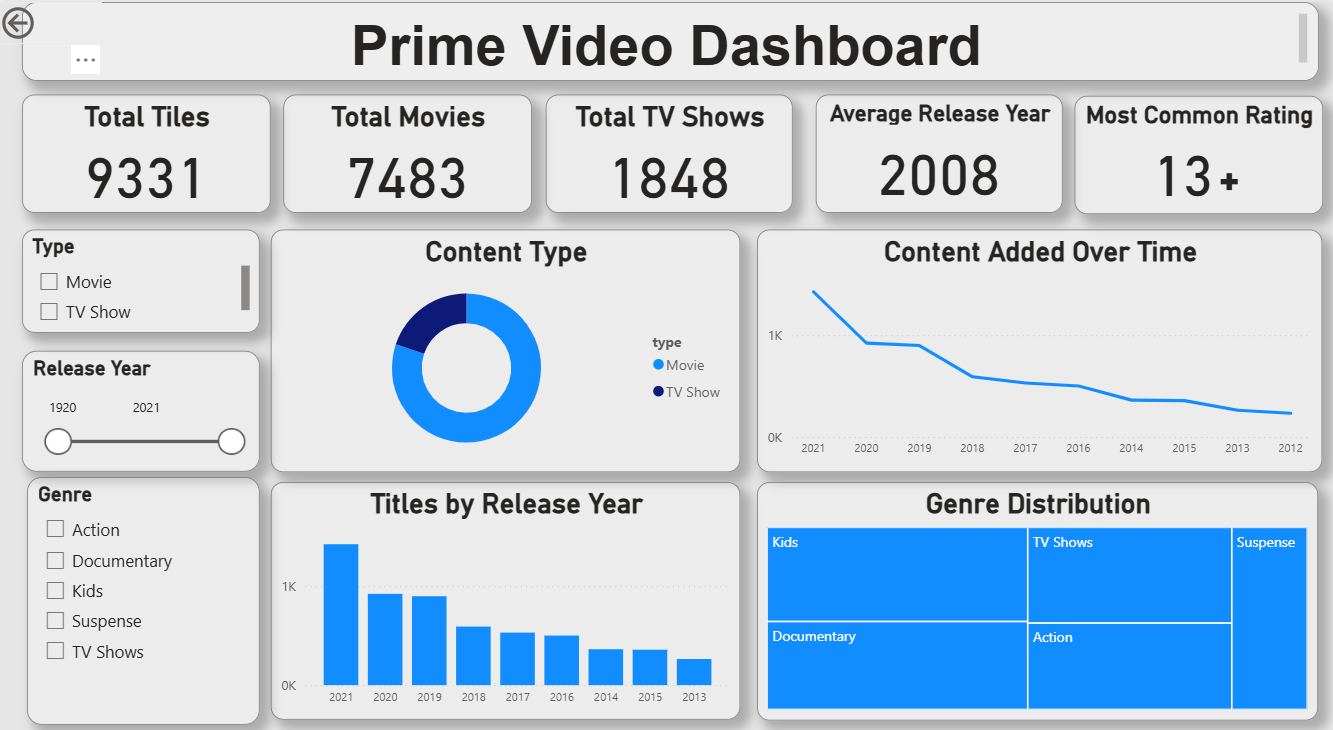

Layout of this report page (visuals, bound fields, positions):
{"tool":"powerbi","page":{"name":"Page 1","canvas":[1280,720],"ordinal":0},"visuals":[{"type":"textbox","box":[23.7,0,1235.3,75.4],"z":0},{"type":"card","title":"Total Tiles","fields":{"Values":["Count(amazon_prime_titles[1].show_id)"]},"box":[24.2,88.4,236.6,112.6],"z":1000},{"type":"card","title":"Total Movies","fields":{"Values":["amazon_prime_titles[1].Total Movies"]},"box":[272.2,88.4,236.6,112.6],"z":2000},{"type":"card","title":"Total TV Shows","fields":{"Values":["amazon_prime_titles[1].Total TV Show"]},"box":[523.1,88.4,235.2,112.6],"z":3000},{"type":"card","title":"Average Release Year","fields":{"Values":["Avg(amazon_prime_titles[1].release_year)"]},"box":[779.7,88.4,235.2,112.6],"z":4000},{"type":"card","title":"Most  Common Rating","fields":{"Values":["amazon_prime_titles[1].Most Common Rating"]},"box":[1026.3,89.8,236.6,112.6],"z":5000},{"type":"actionButton","box":[0,0,100,40],"z":6000},{"type":"donutChart","title":"Content Type","fields":{"Category":["amazon_prime_titles[1].type"],"Y":["CountNonNull(amazon_prime_titles[1].type)"]},"box":[260.8,216.7,447.6,230.9],"z":7000},{"type":"lineChart","title":"Content Added Over Time","fields":{"Category":["amazon_prime_titles[1].release_year"],"Y":["CountNonNull(amazon_prime_titles[1].show_id)"]},"box":[724.1,216.7,538.8,230.9],"z":8000},{"type":"clusteredColumnChart","title":"Titles by Release Year","fields":{"Y":["CountNonNull(amazon_prime_titles[1].show_id)"],"Category":["amazon_prime_titles[1].release_year"]},"box":[260.8,457.6,447.6,226.6],"z":9000},{"type":"treemap","title":"Genre Distribution","fields":{"Values":["CountNonNull(amazon_prime_titles[1].show_id)"],"Group":["amazon_prime_titles[1].listed_in"]},"box":[723.9,457.2,534.5,226.8],"z":10000},{"type":"slicer","title":"Release Year","fields":{"Values":["amazon_prime_titles[1].release_year"]},"box":[23.8,332.5,226.2,115],"z":11000},{"type":"slicer","title":"Type","fields":{"Values":["amazon_prime_titles[1].type"]},"box":[23.8,216.2,226.2,98.8],"z":12000},{"type":"slicer","title":"Genre","fields":{"Values":["amazon_prime_titles[1].listed_in"]},"box":[28.8,452.5,221.2,236.2],"z":12001}]}

Visuals, with their boxes on the page's 1280x720 design canvas (x1, y1, x2, y2). These are canvas units, not pixel positions in the 1333x730 screenshot, which may show the page scaled, cropped or inside an application window:
textbox: {"x1": 24, "y1": 0, "x2": 1259, "y2": 75}
"Total Tiles" card: {"x1": 24, "y1": 88, "x2": 261, "y2": 201}
"Total Movies" card: {"x1": 272, "y1": 88, "x2": 509, "y2": 201}
"Total TV Shows" card: {"x1": 523, "y1": 88, "x2": 758, "y2": 201}
"Average Release Year" card: {"x1": 780, "y1": 88, "x2": 1015, "y2": 201}
"Most  Common Rating" card: {"x1": 1026, "y1": 90, "x2": 1263, "y2": 202}
actionButton: {"x1": 0, "y1": 0, "x2": 100, "y2": 40}
"Content Type" donutChart: {"x1": 261, "y1": 217, "x2": 708, "y2": 448}
"Content Added Over Time" lineChart: {"x1": 724, "y1": 217, "x2": 1263, "y2": 448}
"Titles by Release Year" clusteredColumnChart: {"x1": 261, "y1": 458, "x2": 708, "y2": 684}
"Genre Distribution" treemap: {"x1": 724, "y1": 457, "x2": 1258, "y2": 684}
"Release Year" slicer: {"x1": 24, "y1": 332, "x2": 250, "y2": 448}
"Type" slicer: {"x1": 24, "y1": 216, "x2": 250, "y2": 315}
"Genre" slicer: {"x1": 29, "y1": 452, "x2": 250, "y2": 689}
